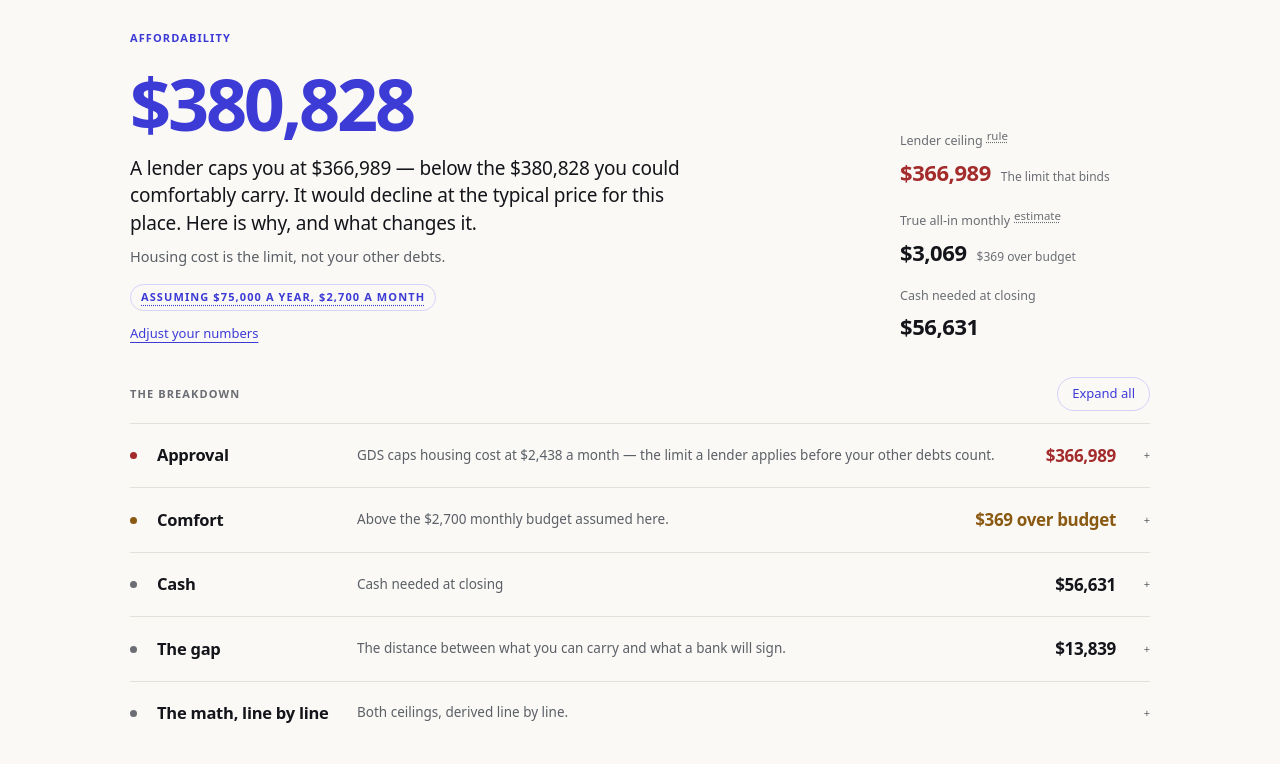
Scenario: Affordability — one disclosure gesture › reaches the derivation with the same gesture as a check
Click the button "The math, line by line" at (243, 712), box [130,682,1150,745]
(page scrolled)
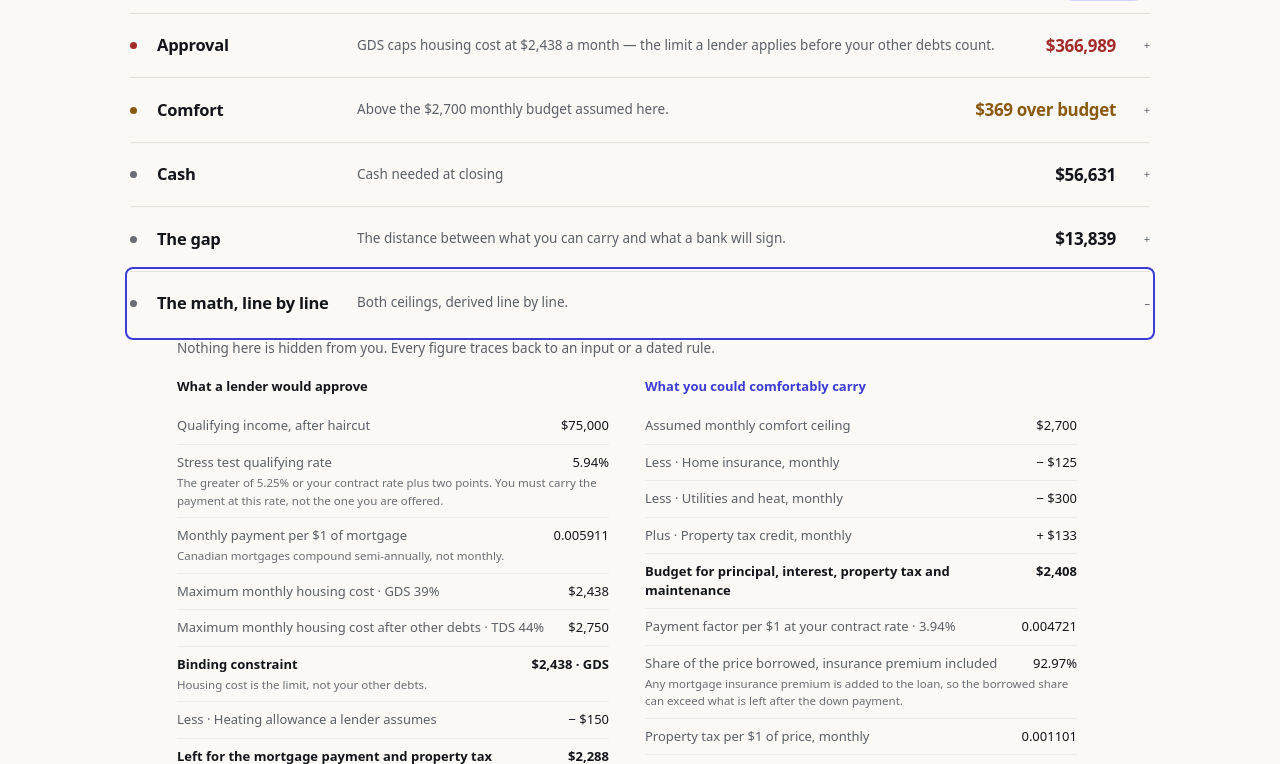
Result: the text "What a lender would approve" is shown at [177,377,368,395]
Result: the text "What you could comfortably carry" is shown at [645,377,866,395]
